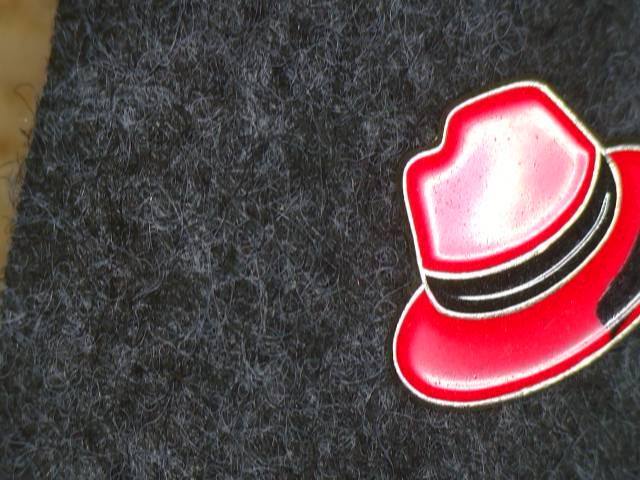Red-Hat: (360, 48, 640, 428)
Scratch: (577, 206, 640, 352)
